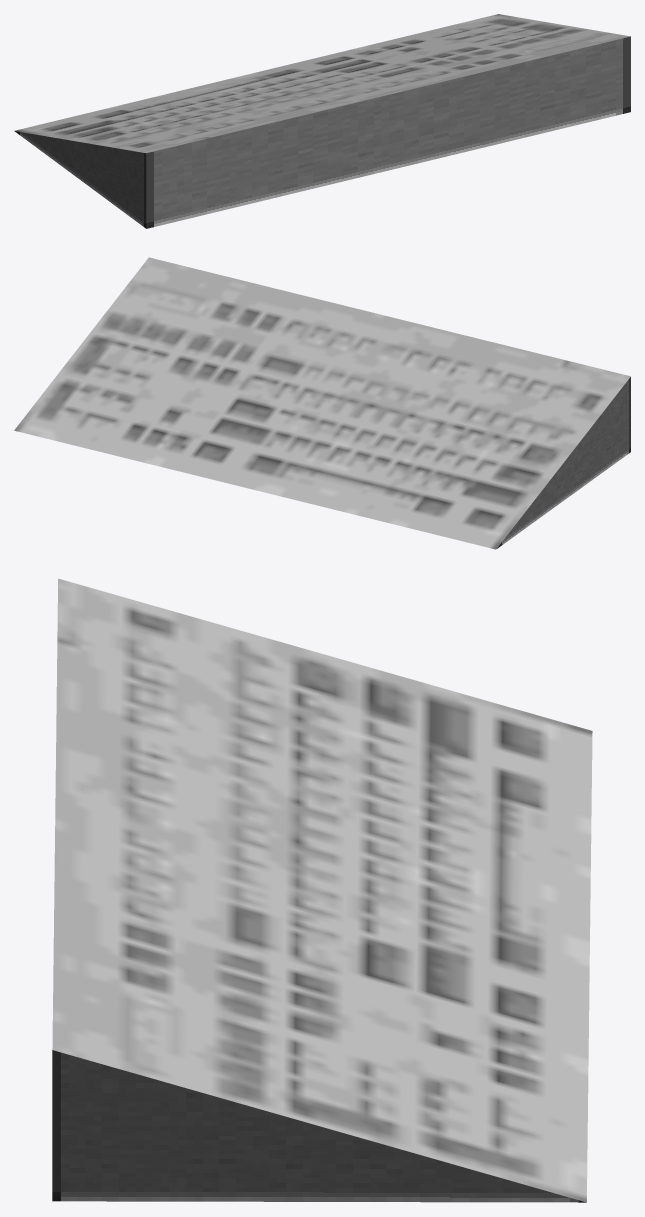
File: primary_075.glb
3 views of the same model, one above another, from view 1: azimuth 30°, elevation 25°; view 2: azimuth 150°, elevation 25°; view 3: azimuth 270°, elevation 25° (orthographic). The views are drawn at different scales.
Parts seen in each view (by area): view 1: Object; view 2: Object; view 3: Object.
Part boxes in pixels (x1,y1,x2,y2): Object: [14, 14, 630, 228]; Object: [14, 257, 630, 549]; Object: [52, 578, 592, 1202].
Bounding box in the file's own units: 0.843 × 0.1258 × 0.407.
4 materials, 4 textured.
